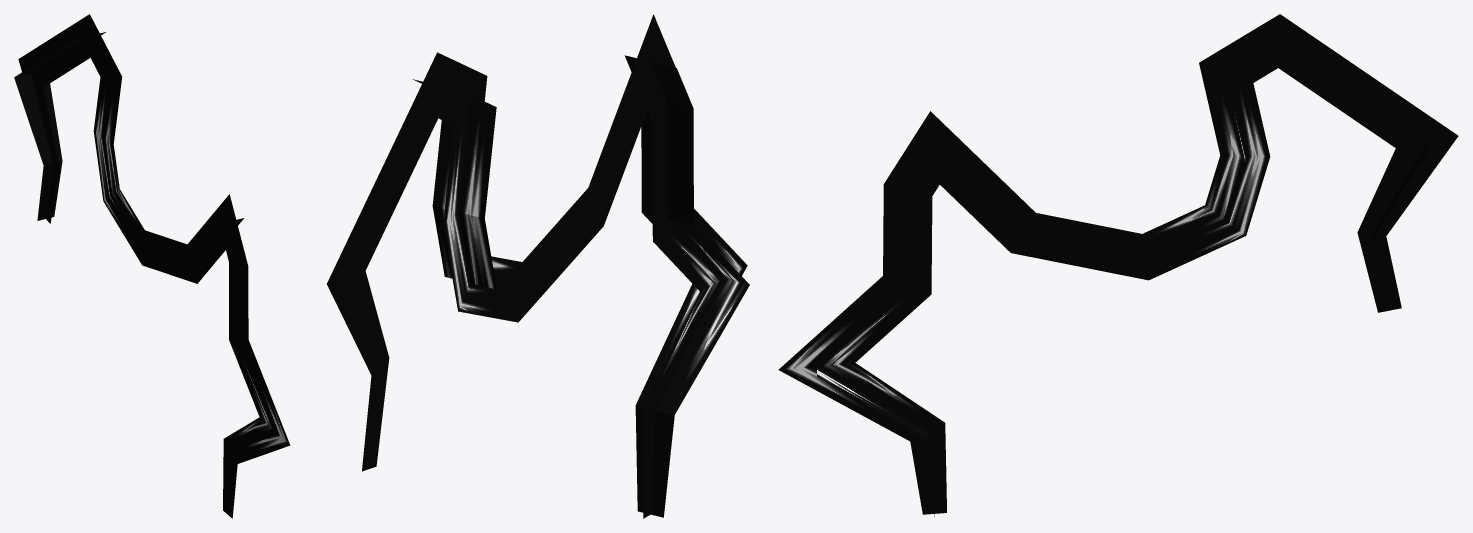
The model's file is LightningB02.fbx.
3 views of the same model, side by side, from view 1: azimuth 30°, elevation 25°; view 2: azimuth 150°, elevation 25°; view 3: azimuth 270°, elevation 25° (orthographic). The views are drawn at different scales.
Parts seen in each view (by area): view 1: SM_EFF_Lightning_B_02.mo; view 2: SM_EFF_Lightning_B_02.mo; view 3: SM_EFF_Lightning_B_02.mo.
Part boxes in pixels (x1,y1,x2,y2): SM_EFF_Lightning_B_02.mo: (14,14,290,518); SM_EFF_Lightning_B_02.mo: (327,14,749,518); SM_EFF_Lightning_B_02.mo: (778,14,1458,516).
Size of the model in its own units: 15 by 170 by 209.
